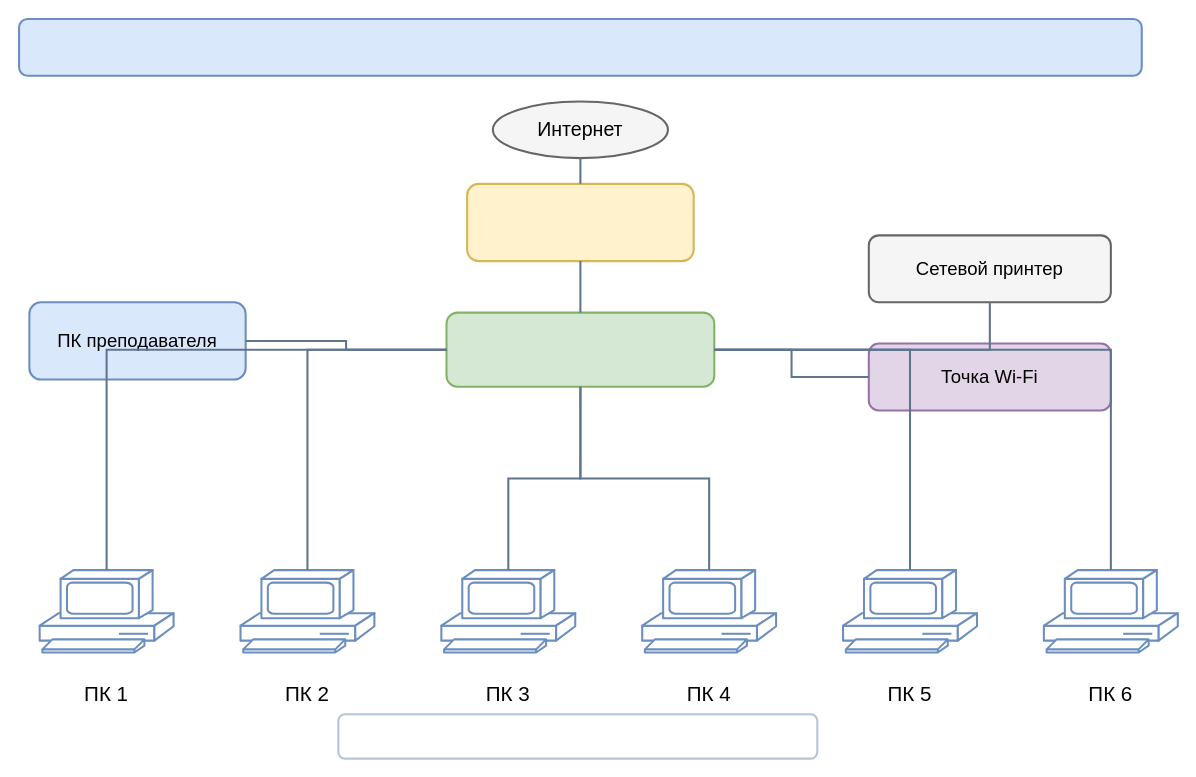
Image size: 1196x777. Some labels were removed from this diagram. The centre of each missing label's shape, as x and y in pixels:
Коммутатор · 24 порта: point 580,349
Локальная сеть: 192.168.10.0/24: point 577,736
Маршрутизатор 192.168.10.1: point 580,222
Сеть компьютерной аудитории: point 580,47
